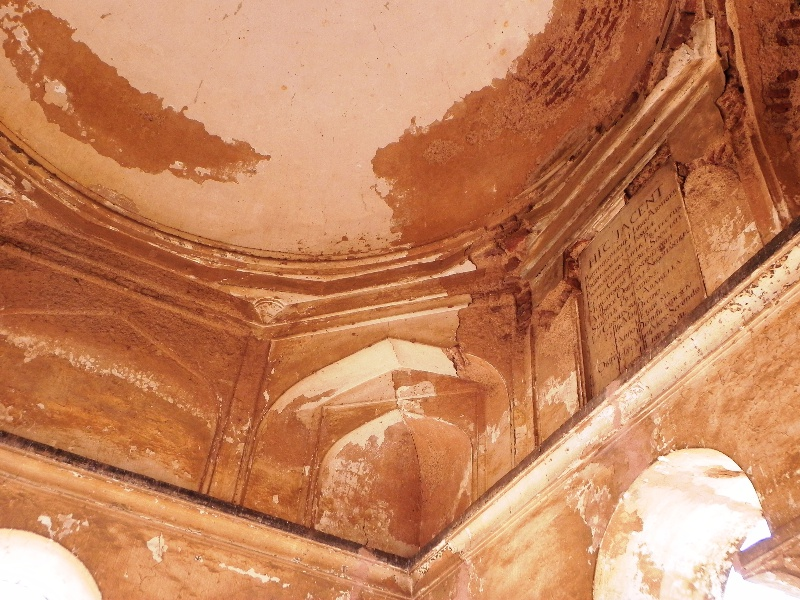Exposed Bricks: (527, 7, 622, 114)
Spalling: (20, 4, 263, 175)
